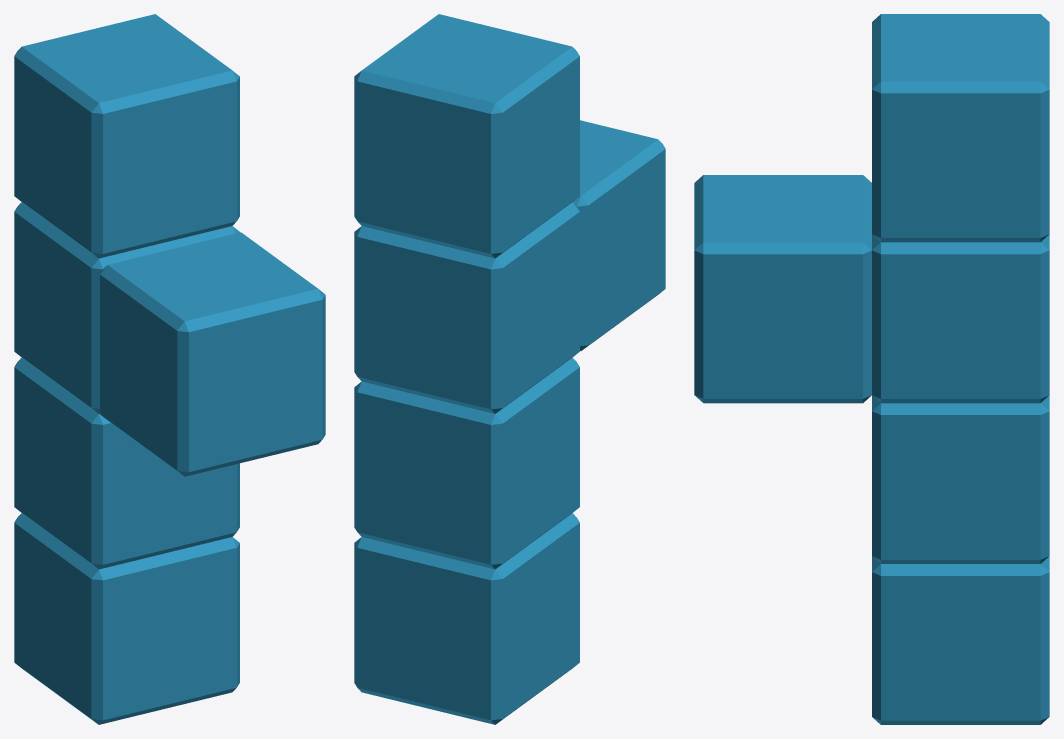
3 renders of one model, left to right at view 1: azimuth 30°, elevation 25°; view 2: azimuth 150°, elevation 25°; view 3: azimuth 270°, elevation 25°, orthographic. The views are drawn at different scales.
Parts seen in each view (by area): view 1: geo1; view 2: geo1; view 3: geo1.
Boxes of the visible parts, bbox=[...] form: geo1: bbox=[14, 14, 325, 724]; geo1: bbox=[354, 14, 665, 724]; geo1: bbox=[694, 14, 1049, 724].
Bounding box in the file's own units: 1 × 4 × 2.
